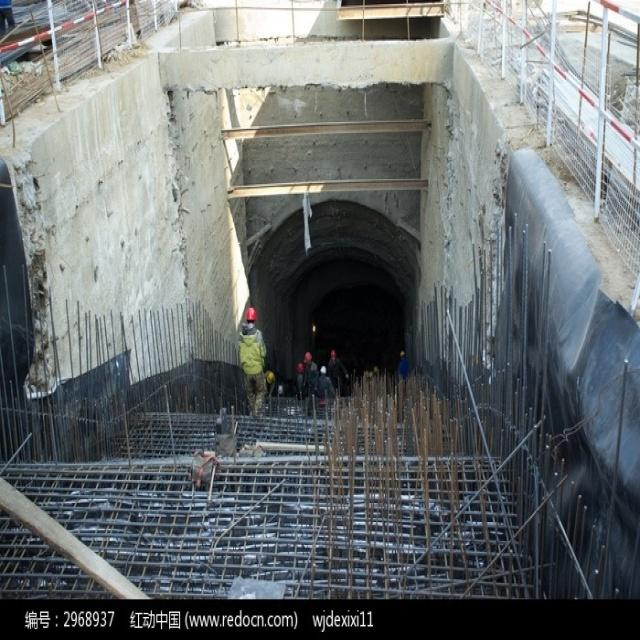helmet: (244, 408, 257, 437), (320, 484, 329, 503), (266, 494, 274, 514), (305, 467, 312, 489), (297, 480, 304, 499)
